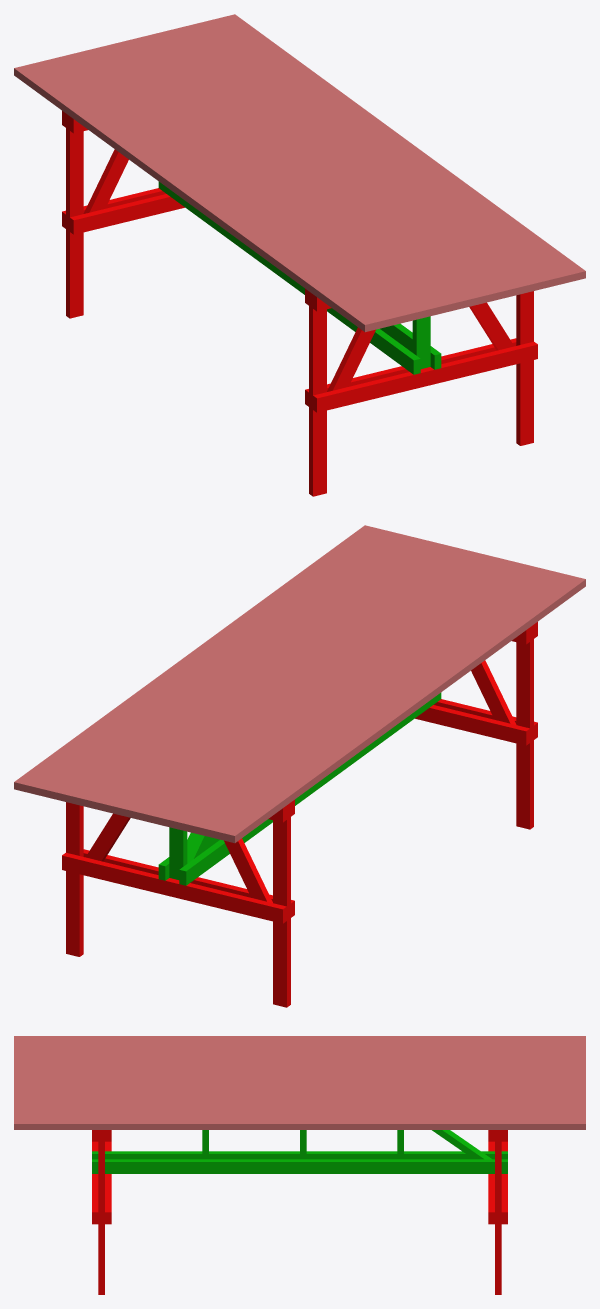
The model's file is result.glb.
3 renders of one model, top to bottom at view 1: azimuth 30°, elevation 25°; view 2: azimuth 150°, elevation 25°; view 3: azimuth 270°, elevation 25°, orthographic. The views are drawn at different scales.
Visible parts, largest first — view 1: 1856ed29-4c1a-406f-8650-873a96e76955__Box, 1d6cd788-e646-4102-8bb1-8217784724cb__undefined, 0c37b29a-4c99-4f11-ac42-4bfeebb72911__undefined, 02fe5d2e-26f5-4218-ad3d-2725df724e99__undefined, 14602909-4e10-47a5-b5ed-1b86f1a170a5__undefined, bc7f0e1a-c349-4163-ac53-31f9df5c880f__undefined, 03fcc861-da1b-422b-acb8-daab2e95576b__undefined, dd67debc-4695-49e4-9934-73d91e6dcb02__undefined, c11586de-ce9c-4959-b012-6360f25012c9__undefined, 907ac53d-7f9f-4684-8250-67151aaca144__undefined, eb367025-f25b-4135-b67f-ca592b7e01fc__undefined, 315fc315-3272-4ef8-a025-05ca232cf109__undefined (+16 smaller); view 2: 1856ed29-4c1a-406f-8650-873a96e76955__Box, 1d6cd788-e646-4102-8bb1-8217784724cb__undefined, 0c37b29a-4c99-4f11-ac42-4bfeebb72911__undefined, 02fe5d2e-26f5-4218-ad3d-2725df724e99__undefined, 14602909-4e10-47a5-b5ed-1b86f1a170a5__undefined, bc7f0e1a-c349-4163-ac53-31f9df5c880f__undefined, 03fcc861-da1b-422b-acb8-daab2e95576b__undefined, dd67debc-4695-49e4-9934-73d91e6dcb02__undefined, c11586de-ce9c-4959-b012-6360f25012c9__undefined, 907ac53d-7f9f-4684-8250-67151aaca144__undefined, eb367025-f25b-4135-b67f-ca592b7e01fc__undefined, 315fc315-3272-4ef8-a025-05ca232cf109__undefined (+15 smaller); view 3: 907ac53d-7f9f-4684-8250-67151aaca144__undefined, b6b02226-7f76-4bed-a6ac-665797b9c2e7__strutH, 1856ed29-4c1a-406f-8650-873a96e76955__Box, 1d6cd788-e646-4102-8bb1-8217784724cb__undefined, 03fcc861-da1b-422b-acb8-daab2e95576b__undefined, 14602909-4e10-47a5-b5ed-1b86f1a170a5__undefined, eb367025-f25b-4135-b67f-ca592b7e01fc__undefined, 10b64f77-c2a4-415d-a768-369d59c88aa7__undefined, 315fc315-3272-4ef8-a025-05ca232cf109__undefined, dd67debc-4695-49e4-9934-73d91e6dcb02__undefined, c11586de-ce9c-4959-b012-6360f25012c9__undefined, 77c09f8e-c306-440f-8aea-6b613c76319f__undefined (+13 smaller).
Part boxes in pixels (box(x1,y1,x2,y2)): 1856ed29-4c1a-406f-8650-873a96e76955__Box: box(14, 65, 378, 332); 1d6cd788-e646-4102-8bb1-8217784724cb__undefined: box(28, 61, 392, 328); 0c37b29a-4c99-4f11-ac42-4bfeebb72911__undefined: box(180, 24, 544, 291); 02fe5d2e-26f5-4218-ad3d-2725df724e99__undefined: box(208, 17, 572, 284); 14602909-4e10-47a5-b5ed-1b86f1a170a5__undefined: box(56, 55, 420, 321); bc7f0e1a-c349-4163-ac53-31f9df5c880f__undefined: box(194, 21, 558, 288); 03fcc861-da1b-422b-acb8-daab2e95576b__undefined: box(42, 58, 406, 325); dd67debc-4695-49e4-9934-73d91e6dcb02__undefined: box(111, 41, 475, 308); c11586de-ce9c-4959-b012-6360f25012c9__undefined: box(125, 38, 489, 305); 907ac53d-7f9f-4684-8250-67151aaca144__undefined: box(221, 14, 585, 281); eb367025-f25b-4135-b67f-ca592b7e01fc__undefined: box(69, 51, 433, 318); 315fc315-3272-4ef8-a025-05ca232cf109__undefined: box(97, 44, 461, 311); 1856ed29-4c1a-406f-8650-873a96e76955__Box: box(221, 576, 585, 843); 1d6cd788-e646-4102-8bb1-8217784724cb__undefined: box(207, 572, 571, 839); 0c37b29a-4c99-4f11-ac42-4bfeebb72911__undefined: box(55, 535, 419, 802); 02fe5d2e-26f5-4218-ad3d-2725df724e99__undefined: box(27, 528, 391, 795); 14602909-4e10-47a5-b5ed-1b86f1a170a5__undefined: box(179, 566, 543, 832); bc7f0e1a-c349-4163-ac53-31f9df5c880f__undefined: box(41, 532, 405, 799); 03fcc861-da1b-422b-acb8-daab2e95576b__undefined: box(193, 569, 557, 836); dd67debc-4695-49e4-9934-73d91e6dcb02__undefined: box(124, 552, 488, 819); c11586de-ce9c-4959-b012-6360f25012c9__undefined: box(110, 549, 474, 816); 907ac53d-7f9f-4684-8250-67151aaca144__undefined: box(14, 525, 378, 792); eb367025-f25b-4135-b67f-ca592b7e01fc__undefined: box(166, 562, 530, 829); 315fc315-3272-4ef8-a025-05ca232cf109__undefined: box(138, 555, 502, 822); 907ac53d-7f9f-4684-8250-67151aaca144__undefined: box(14, 1118, 585, 1129); b6b02226-7f76-4bed-a6ac-665797b9c2e7__strutH: box(92, 1159, 507, 1173); 1856ed29-4c1a-406f-8650-873a96e76955__Box: box(14, 1036, 585, 1041); 1d6cd788-e646-4102-8bb1-8217784724cb__undefined: box(14, 1041, 585, 1046); 03fcc861-da1b-422b-acb8-daab2e95576b__undefined: box(14, 1047, 585, 1052); 14602909-4e10-47a5-b5ed-1b86f1a170a5__undefined: box(14, 1052, 585, 1057); eb367025-f25b-4135-b67f-ca592b7e01fc__undefined: box(14, 1058, 585, 1063); 10b64f77-c2a4-415d-a768-369d59c88aa7__undefined: box(14, 1063, 585, 1068); 315fc315-3272-4ef8-a025-05ca232cf109__undefined: box(14, 1069, 585, 1074); dd67debc-4695-49e4-9934-73d91e6dcb02__undefined: box(14, 1074, 585, 1079); c11586de-ce9c-4959-b012-6360f25012c9__undefined: box(14, 1080, 585, 1085); 77c09f8e-c306-440f-8aea-6b613c76319f__undefined: box(14, 1085, 585, 1090).
Bounding box in the file's own units: 800 × 725 × 2200.
